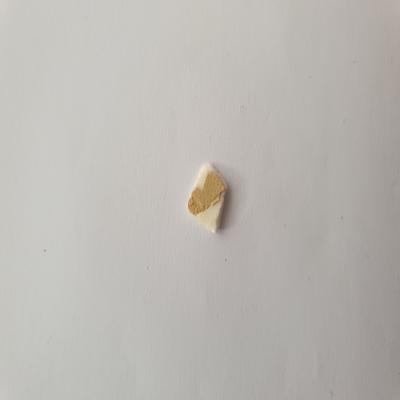plastic: (182, 159, 229, 236)
